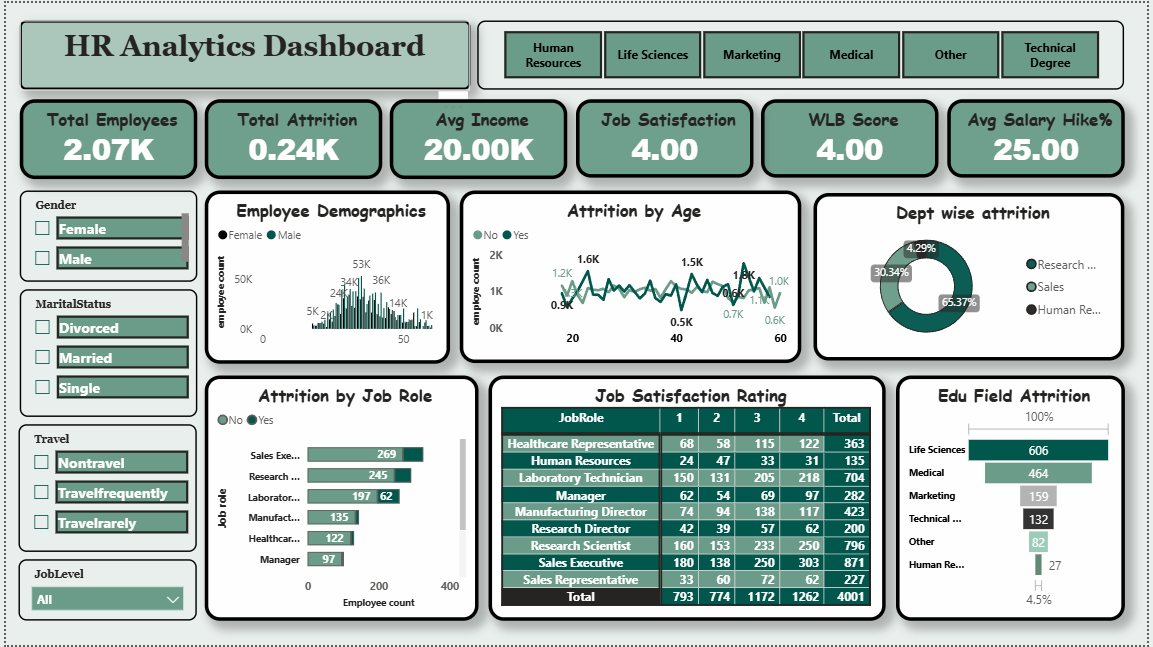

The dashboard page shown, as its layout file describes it:
{"tool":"powerbi","page":{"name":"HR DASHBOARD","canvas":[1280,720],"ordinal":0},"visuals":[{"type":"textbox","box":[15.5,20.3,505.4,77.5],"z":0},{"type":"slicer","fields":{"Values":["WA_Fn-UseC_-HR-Employee-Attrition.Gender"]},"box":[15.5,209.8,199.1,102.5],"z":1000},{"type":"slicer","title":" Qualifications","fields":{"Values":["WA_Fn-UseC_-HR-Employee-Attrition.EducationField"]},"box":[529.3,20.3,725.9,77.5],"z":2000},{"type":"kpi","title":"Total Employees","fields":{"Indicator":["Sum(WA_Fn-UseC_-HR-Employee-Attrition.EmployeeNumber)"],"TrendLine":["WA_Fn-UseC_-HR-Employee-Attrition.EmployeeNumber"]},"box":[15.5,108.5,199.1,89.4],"z":3000},{"type":"kpi","title":"Total Attrition","fields":{"Indicator":["CountNonNull(WA_Fn-UseC_-HR-Employee-Attrition.Attrition)"],"TrendLine":["WA_Fn-UseC_-HR-Employee-Attrition.Attrition"]},"box":[222.9,108.5,199.1,89.4],"z":4000},{"type":"kpi","title":"Avg Income","fields":{"Indicator":["Avg(WA_Fn-UseC_-HR-Employee-Attrition.MonthlyIncome)"],"TrendLine":["WA_Fn-UseC_-HR-Employee-Attrition.MonthlyIncome"]},"box":[430.3,108.5,199.1,89.4],"z":5000},{"type":"kpi","title":"WLB Score","fields":{"Indicator":["Avg(WA_Fn-UseC_-HR-Employee-Attrition.WorkLifeBalance)"],"TrendLine":["WA_Fn-UseC_-HR-Employee-Attrition.WorkLifeBalance"]},"box":[847.5,108.5,199.1,88.2],"z":6000},{"type":"kpi","title":"Job Satisfaction","fields":{"Indicator":["Avg(WA_Fn-UseC_-HR-Employee-Attrition.JobSatisfaction)"],"TrendLine":["WA_Fn-UseC_-HR-Employee-Attrition.JobSatisfaction"]},"box":[640.1,108.5,199.1,88.2],"z":7000},{"type":"kpi","title":"Avg Salary Hike%","fields":{"Indicator":["Avg(WA_Fn-UseC_-HR-Employee-Attrition.PercentSalaryHike)"],"TrendLine":["WA_Fn-UseC_-HR-Employee-Attrition.PercentSalaryHike"]},"box":[1056.1,108.5,199.1,88.2],"z":8000},{"type":"slicer","fields":{"Values":["WA_Fn-UseC_-HR-Employee-Attrition.MaritalStatus"]},"box":[15.5,320.7,199.1,143],"z":9000},{"type":"slicer","fields":{"Values":["WA_Fn-UseC_-HR-Employee-Attrition.BusinessTravel"]},"box":[14.3,473.2,200.3,143],"z":10000},{"type":"slicer","fields":{"Values":["WA_Fn-UseC_-HR-Employee-Attrition.JobLevel"]},"box":[14.3,624.6,200.3,69.1],"z":11000},{"type":"clusteredColumnChart","title":"Employee Demographics","fields":{"Category":["WA_Fn-UseC_-HR-Employee-Attrition.Age"],"Y":["Sum(WA_Fn-UseC_-HR-Employee-Attrition.EmployeeNumber)"],"Series":["WA_Fn-UseC_-HR-Employee-Attrition.Gender"]},"box":[222.9,209.8,275.4,194.3],"z":12000},{"type":"lineChart","title":"Attrition by Age","fields":{"Category":["WA_Fn-UseC_-HR-Employee-Attrition.Age"],"Series":["WA_Fn-UseC_-HR-Employee-Attrition.Attrition"],"Y":["Avg(WA_Fn-UseC_-HR-Employee-Attrition.EmployeeNumber)"]},"box":[509,210.3,382.8,193.5],"z":13000},{"type":"donutChart","title":"Dept wise attrition","fields":{"Y":["CountNonNull(WA_Fn-UseC_-HR-Employee-Attrition.Attrition)"],"Category":["WA_Fn-UseC_-HR-Employee-Attrition.Department"]},"box":[905.9,213.1,349.2,187.9],"z":14000},{"type":"barChart","title":"Attrition by Job Role","fields":{"Category":["WA_Fn-UseC_-HR-Employee-Attrition.JobRole"],"Y":["CountNonNull(WA_Fn-UseC_-HR-Employee-Attrition.EmployeeNumber)"],"Series":["WA_Fn-UseC_-HR-Employee-Attrition.Attrition"]},"box":[223,417.9,307.1,274.8],"z":15000},{"type":"pivotTable","title":"Job Satisfaction Rating","fields":{"Rows":["WA_Fn-UseC_-HR-Employee-Attrition.JobRole"],"Columns":["WA_Fn-UseC_-HR-Employee-Attrition.JobSatisfaction"],"Values":["Sum(WA_Fn-UseC_-HR-Employee-Attrition.EnvironmentSatisfaction)"]},"box":[541.3,417.9,445.9,274.8],"z":16000},{"type":"funnel","title":"Edu Field Attrition","fields":{"Category":["WA_Fn-UseC_-HR-Employee-Attrition.EducationField"],"Y":["CountNonNull(WA_Fn-UseC_-HR-Employee-Attrition.Attrition)"]},"box":[998.4,417.9,256.6,274.8],"z":17000}]}

Visuals, with their boxes in screenshot pixels (x1, y1, x2, y2), scaled from the page's 1280x720 canvas onto the 1153x647 screenshot:
textbox: l=14, t=18, r=469, b=88
slicer - WA_Fn-UseC_-HR-Employee-Attrition.Gender: l=14, t=189, r=193, b=281
" Qualifications" slicer: l=477, t=18, r=1131, b=88
"Total Employees" kpi: l=14, t=97, r=193, b=178
"Total Attrition" kpi: l=201, t=97, r=380, b=178
"Avg Income" kpi: l=388, t=97, r=567, b=178
"WLB Score" kpi: l=763, t=97, r=943, b=177
"Job Satisfaction" kpi: l=577, t=97, r=756, b=177
"Avg Salary Hike%" kpi: l=951, t=97, r=1131, b=177
slicer - WA_Fn-UseC_-HR-Employee-Attrition.MaritalStatus: l=14, t=288, r=193, b=417
slicer - WA_Fn-UseC_-HR-Employee-Attrition.BusinessTravel: l=13, t=425, r=193, b=554
slicer - WA_Fn-UseC_-HR-Employee-Attrition.JobLevel: l=13, t=561, r=193, b=623
"Employee Demographics" clusteredColumnChart: l=201, t=189, r=449, b=363
"Attrition by Age" lineChart: l=458, t=189, r=803, b=363
"Dept wise attrition" donutChart: l=816, t=191, r=1131, b=360
"Attrition by Job Role" barChart: l=201, t=376, r=478, b=622
"Job Satisfaction Rating" pivotTable: l=488, t=376, r=889, b=622
"Edu Field Attrition" funnel: l=899, t=376, r=1130, b=622
